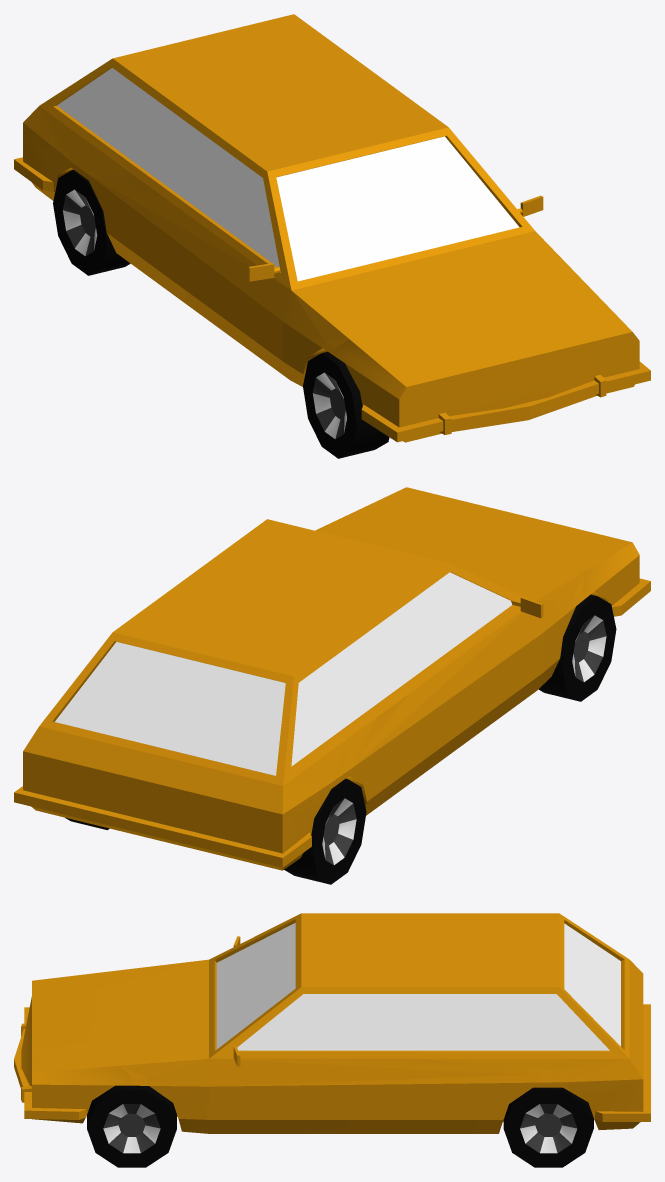
The model's file is COCHE_02.FBX.
The picture shows the model from 3 angles, top to bottom: view 1: azimuth 30°, elevation 25°; view 2: azimuth 150°, elevation 25°; view 3: azimuth 270°, elevation 25°; orthographic projection. The views are drawn at different scales.
Parts seen in each view (by area): view 1: Object010, Object016, Object017; view 2: Object010, Object016, Object017; view 3: Object010, Object011, Object015.
Boxes of the visible parts, x1,y1,x2,y2 form: Object010: (14,14,650,442); Object016: (303,351,389,458); Object017: (53,170,130,275); Object010: (14,487,650,870); Object016: (538,594,616,701); Object017: (284,778,366,884); Object010: (14,913,650,1133); Object011: (87,1085,176,1167); Object015: (503,1087,593,1167).
Bounding box in the file's own units: 39.63 × 25.46 × 89.38.
